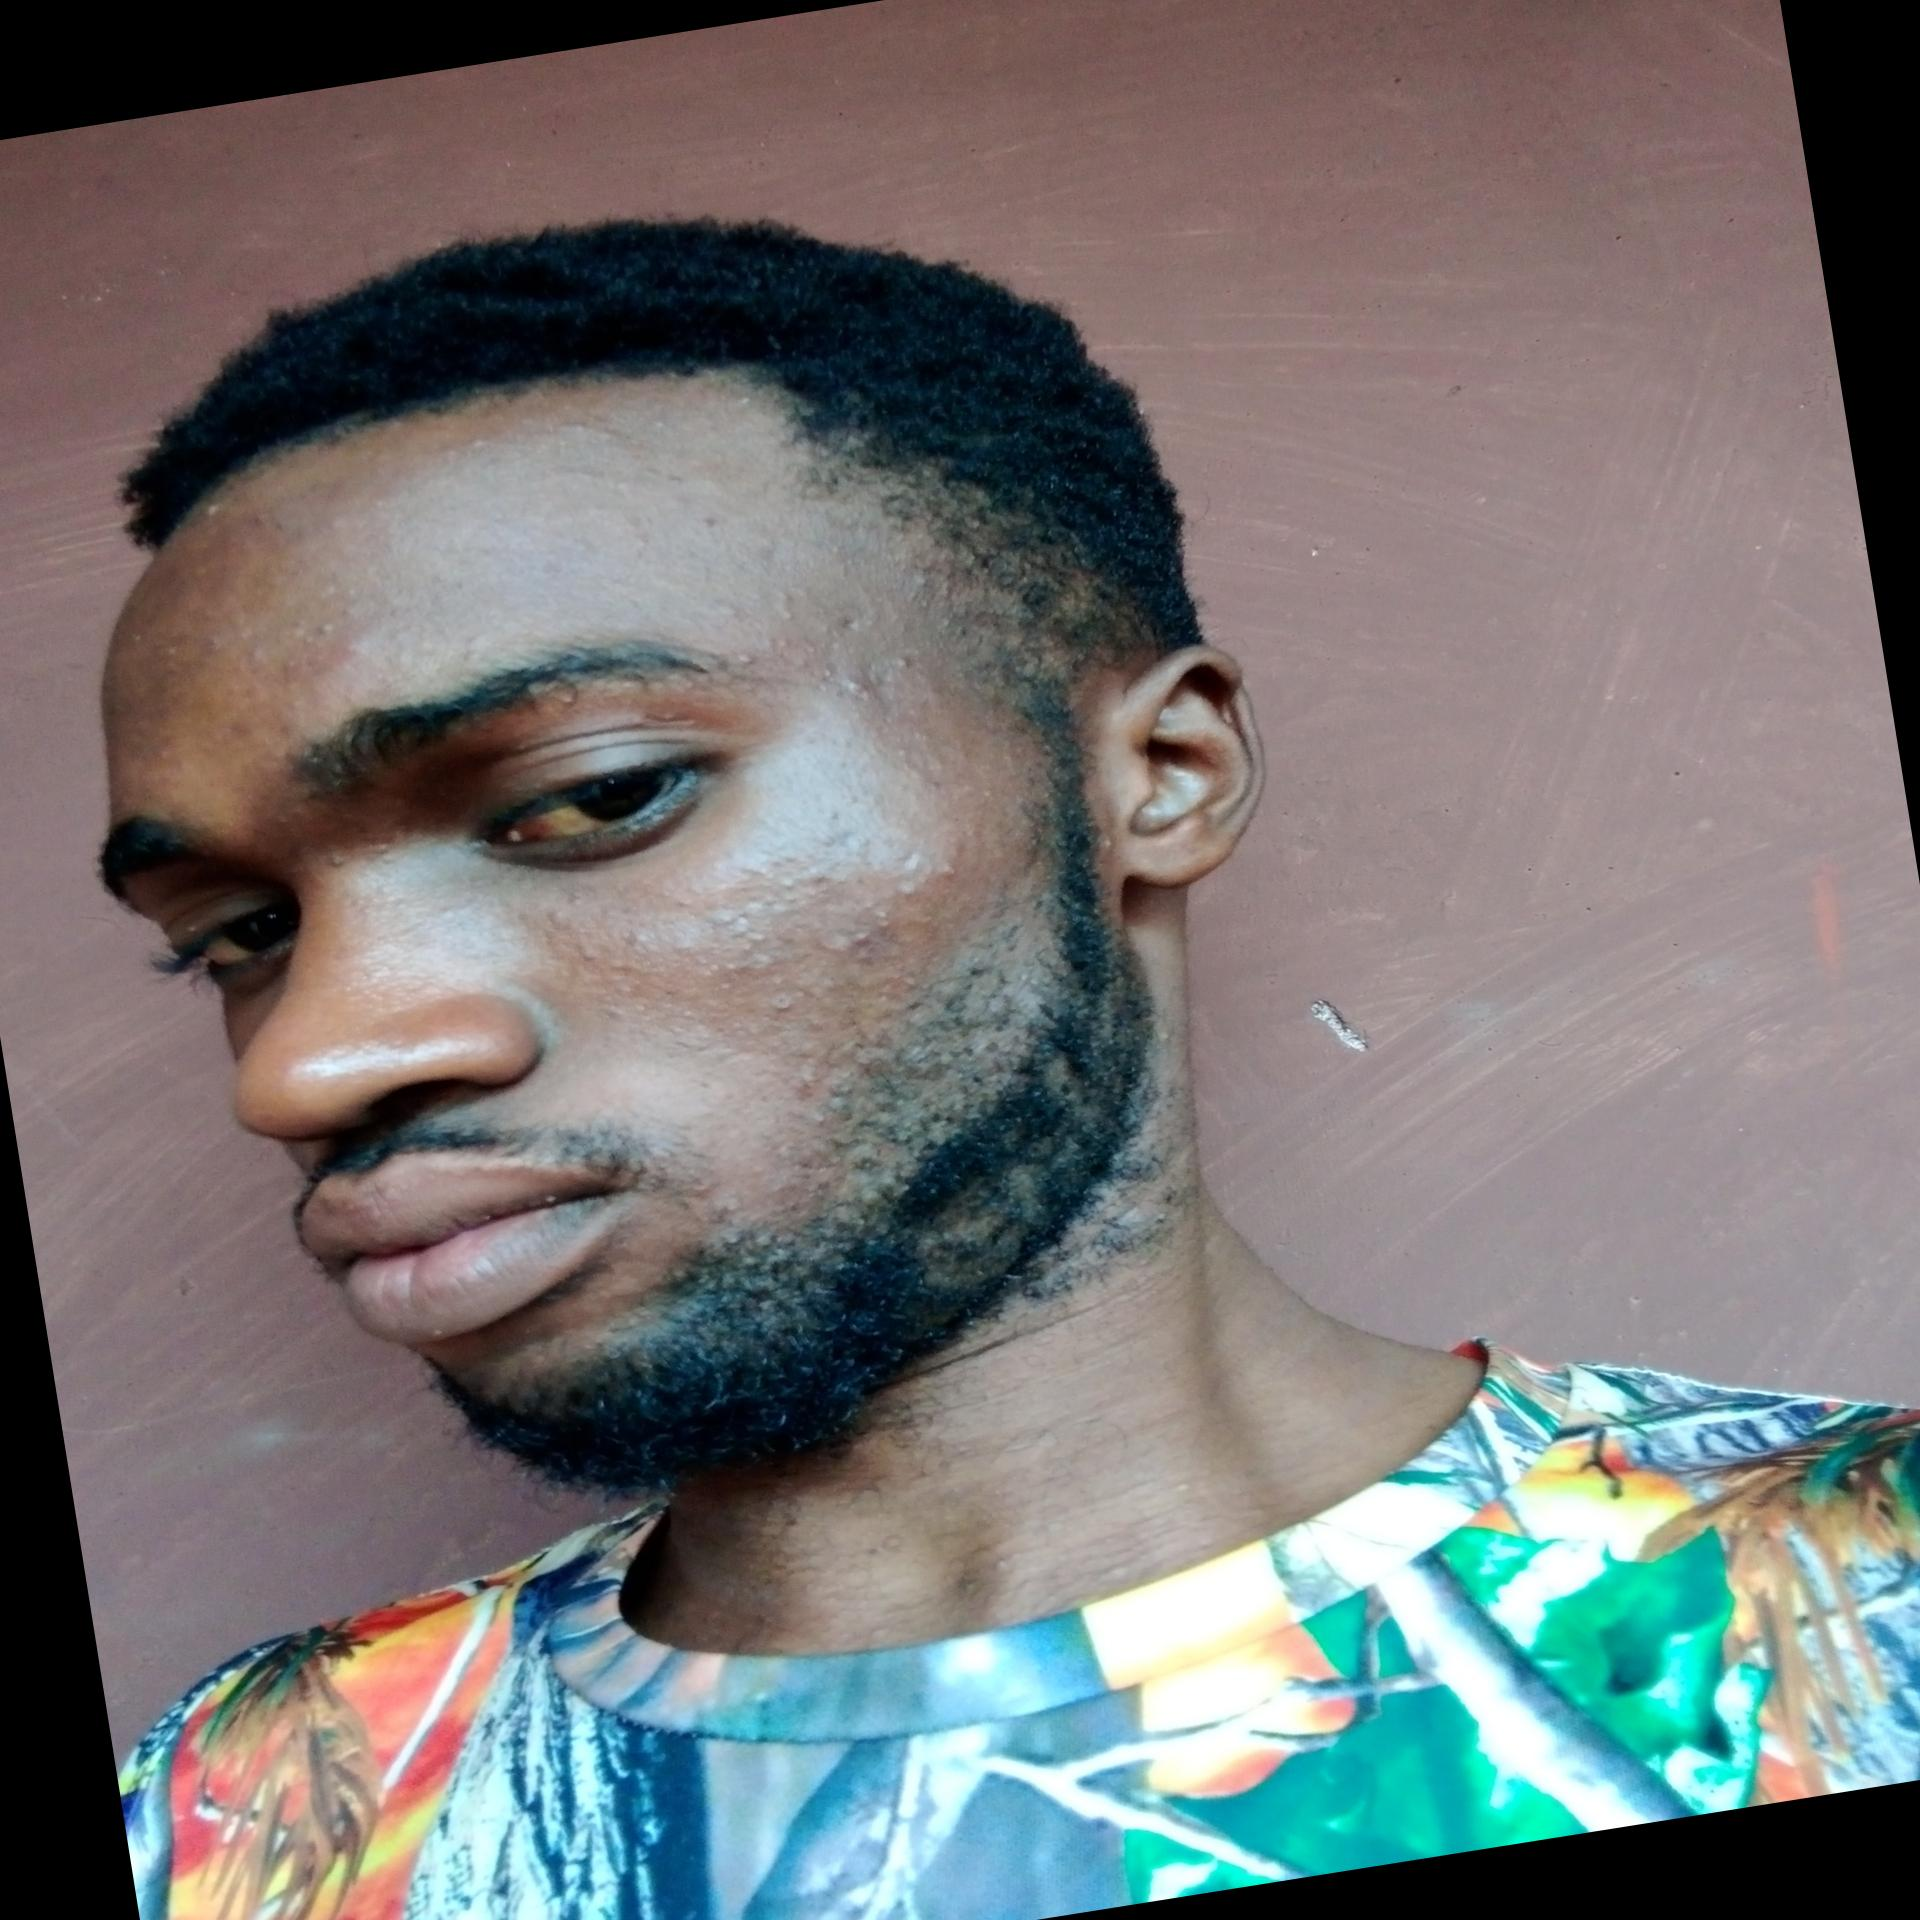Acne: (267, 633, 378, 682), (549, 404, 631, 454), (814, 927, 883, 969), (638, 457, 696, 494), (798, 860, 842, 898), (248, 506, 292, 542), (151, 640, 186, 682), (791, 1062, 825, 1104), (593, 997, 638, 1027), (698, 506, 735, 543), (721, 949, 781, 971), (603, 955, 649, 981), (879, 877, 921, 905), (816, 802, 847, 839), (842, 672, 879, 703), (772, 874, 805, 907), (890, 649, 925, 680), (735, 860, 774, 886), (316, 840, 346, 874), (540, 904, 571, 934), (222, 714, 257, 740), (872, 904, 897, 941), (670, 934, 703, 960), (601, 469, 628, 503), (668, 893, 705, 916), (714, 596, 744, 624), (267, 721, 299, 747), (707, 907, 740, 932), (937, 862, 965, 888), (621, 925, 652, 948), (733, 649, 765, 672), (774, 601, 800, 628), (197, 629, 223, 656), (315, 615, 339, 644), (767, 990, 796, 1013), (628, 533, 658, 556), (366, 839, 394, 860), (204, 498, 229, 520), (580, 937, 600, 965), (747, 923, 772, 944), (267, 809, 288, 830), (733, 390, 751, 410), (644, 415, 666, 429)
